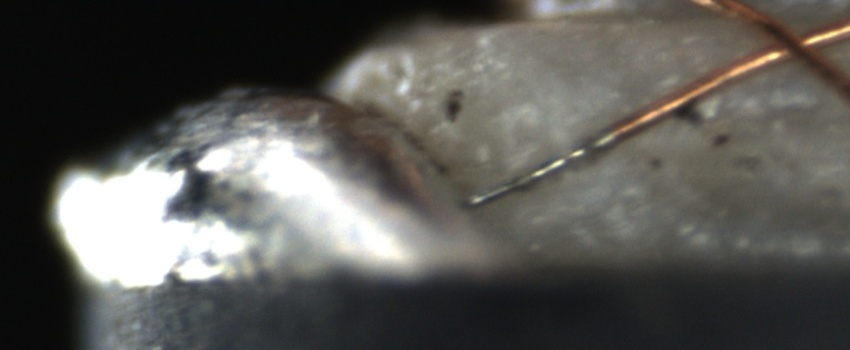CL: (750, 13, 835, 75)
TS: (469, 128, 617, 206)
TTCW: (455, 97, 666, 215)
